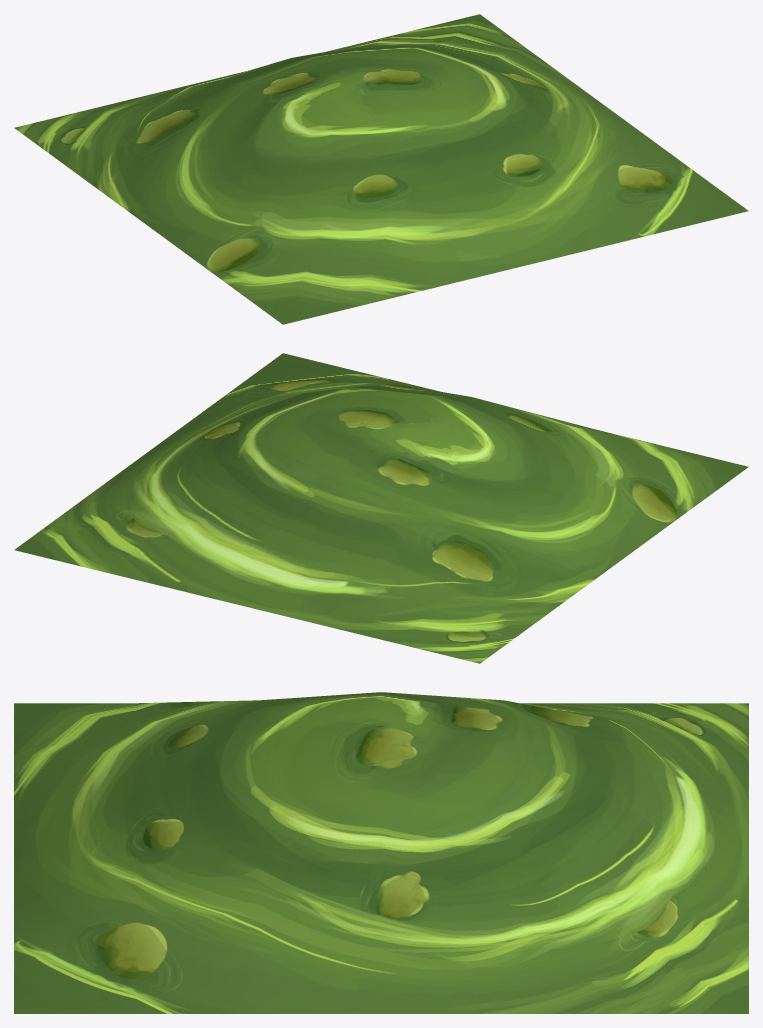
Rendered from bathroom_dirtpile_V02.glb.
3 renders of one model, top to bottom at view 1: azimuth 30°, elevation 25°; view 2: azimuth 150°, elevation 25°; view 3: azimuth 270°, elevation 25°, orthographic. The views are drawn at different scales.
Visible parts, largest first — view 1: InhaltToilette1; view 2: InhaltToilette1; view 3: InhaltToilette1.
Boxes of the visible parts, x1,y1,x2,y2 form: InhaltToilette1: (14,14,748,324); InhaltToilette1: (14,353,748,663); InhaltToilette1: (14,692,748,1013).
Bounding box in the file's own units: 0.6901 × 0.1302 × 0.6901.
1 material, 1 textured.
